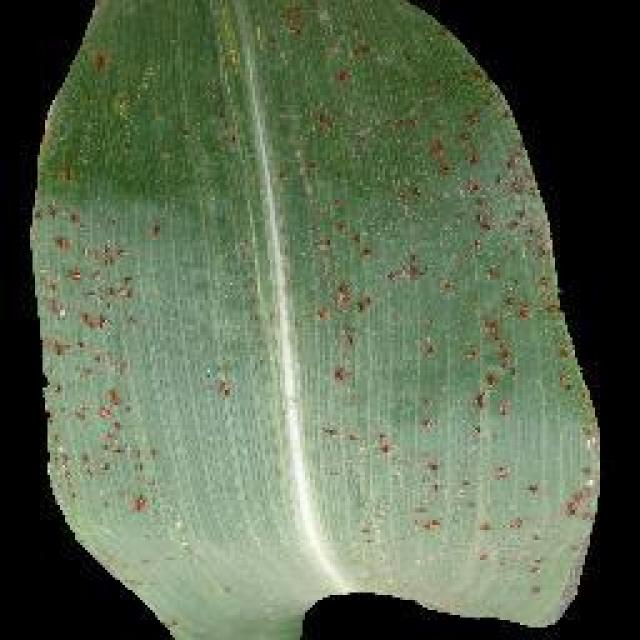Corn Common Rust: (82, 80, 533, 603)
